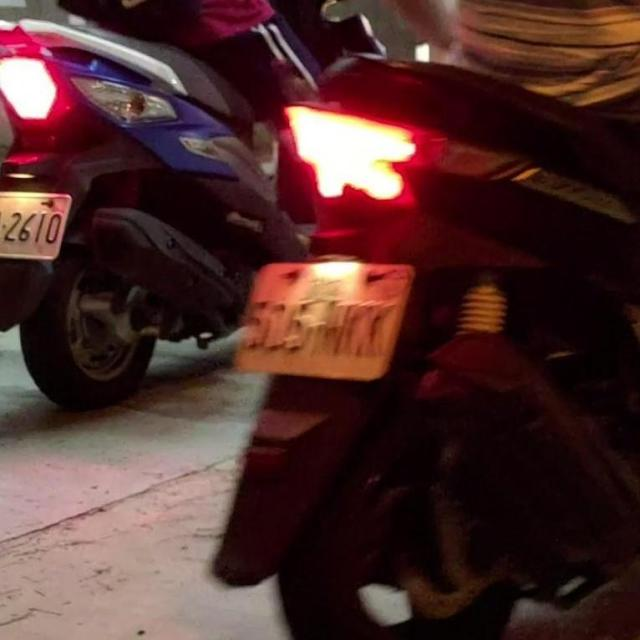W: (240, 252, 416, 384), (0, 176, 78, 266)
